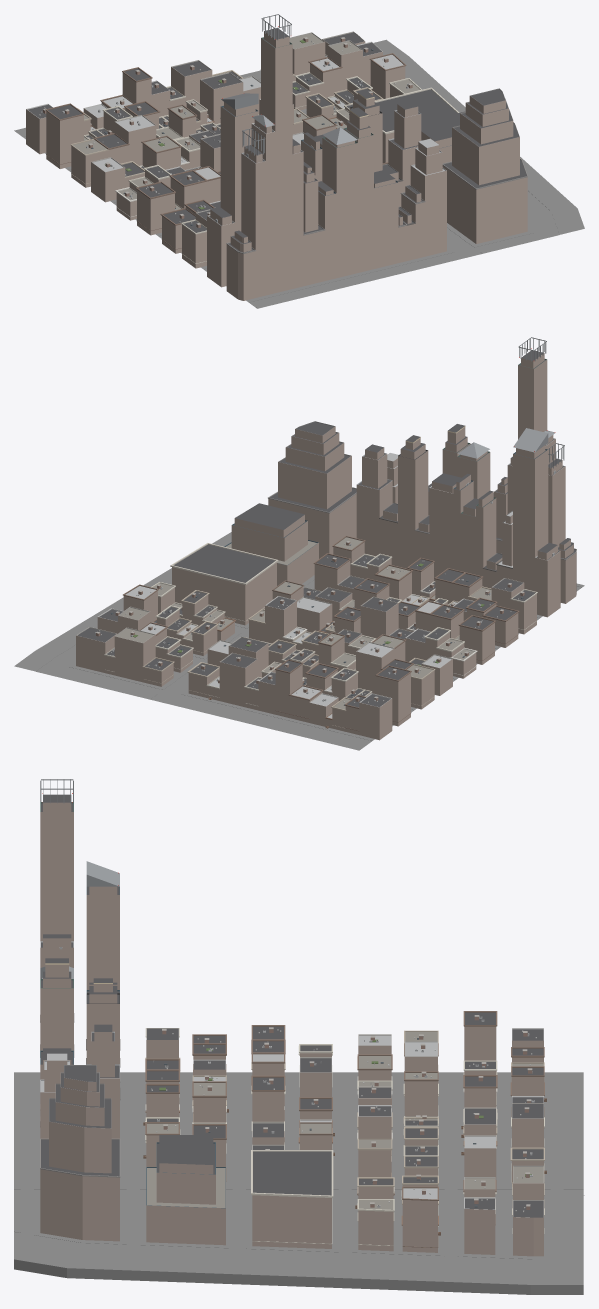
The picture shows the model from 3 angles, top to bottom: view 1: azimuth 30°, elevation 25°; view 2: azimuth 150°, elevation 25°; view 3: azimuth 270°, elevation 25°; orthographic projection. The views are drawn at different scales.
Parts seen in each view (by area): view 1: t36_facade, t36_roof, t36_detail, t36_ground; view 2: t36_facade, t36_roof, t36_detail, t36_ground; view 3: t36_facade, t36_ground, t36_roof, t36_detail.
Part boxes in pixels (x1,y1,x2,y2): t36_facade: (26,31,527,300); t36_roof: (28,14,526,252); t36_detail: (26,31,527,263); t36_ground: (14,39,584,308); t36_facade: (76,353,576,740); t36_roof: (78,337,575,718); t36_detail: (76,359,576,731); t36_ground: (14,532,584,750); t36_facade: (40,802,543,1256); t36_ground: (14,1072,584,1294); t36_roof: (40,779,543,1217); t36_detail: (40,802,546,1247).
Bounding box in the file's own units: 386 × 266 × 431.
